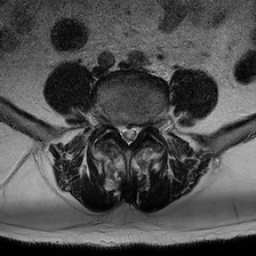CCS_normal: (125, 117, 132, 152)
LFS_severe_stenosis: (139, 115, 148, 137)
LLS_normal: (132, 118, 139, 145)
RFS_normal: (109, 110, 118, 137)
RLS_normal: (118, 117, 125, 145)
